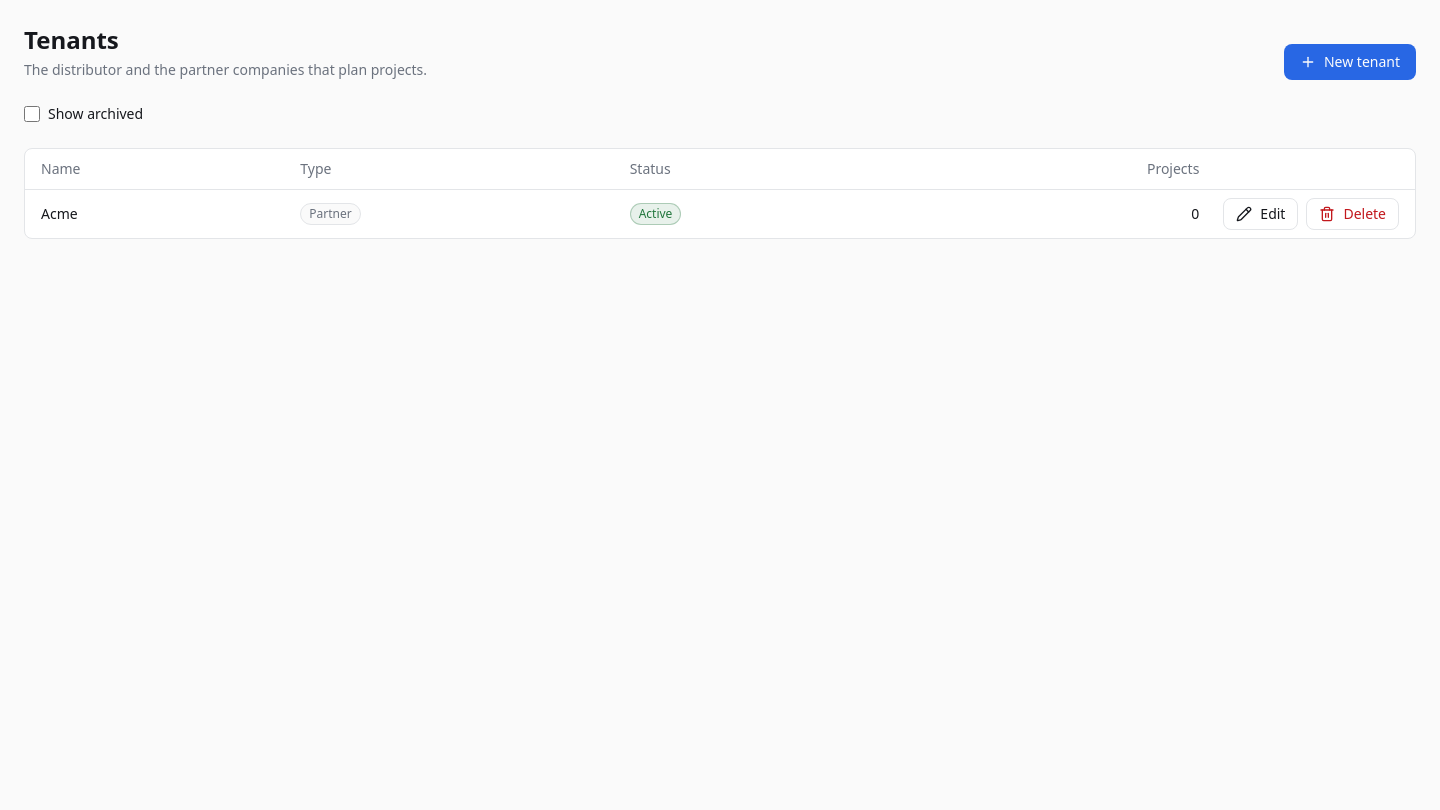
TenantsPage › refreshes the user list after deleting a tenant
This screenshot has width=1440, height=810.
Click the button "Delete" at [1353, 214], box [1306,198,1399,230]
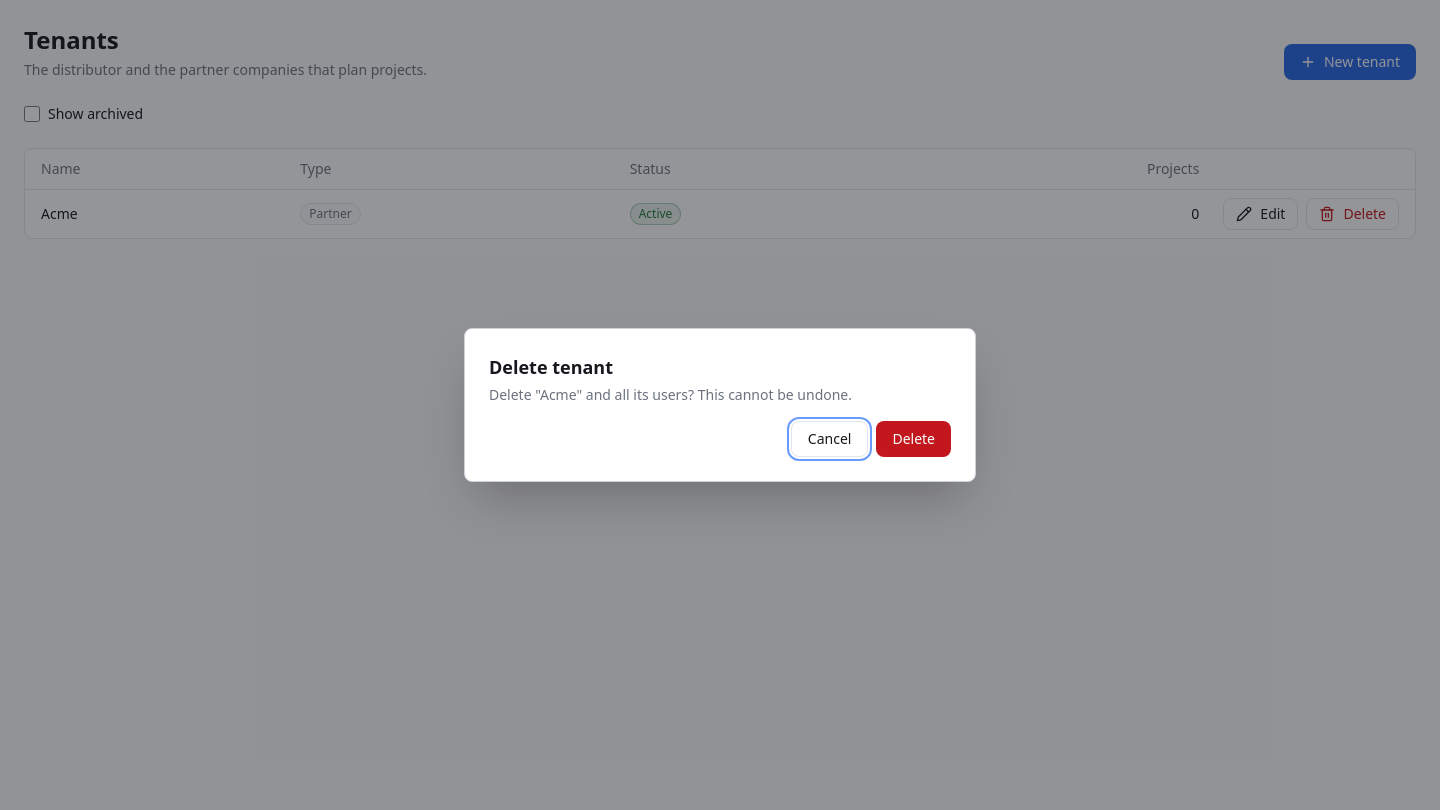
Click the button "Delete" at [914, 439], box [876,421,951,457]
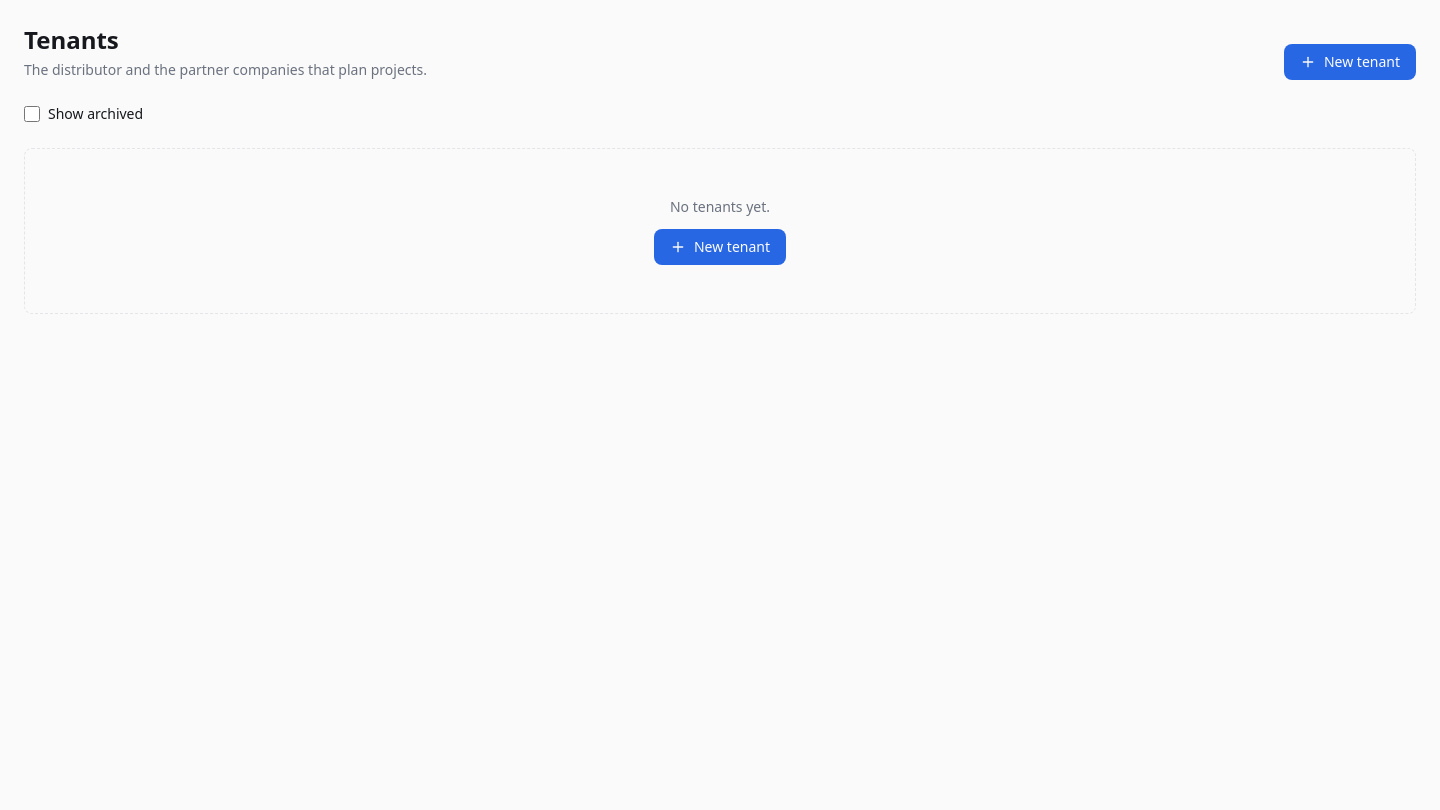
Result: the dialog is gone
Result: the text "No tenants yet." is shown at [670,197,770,217]
